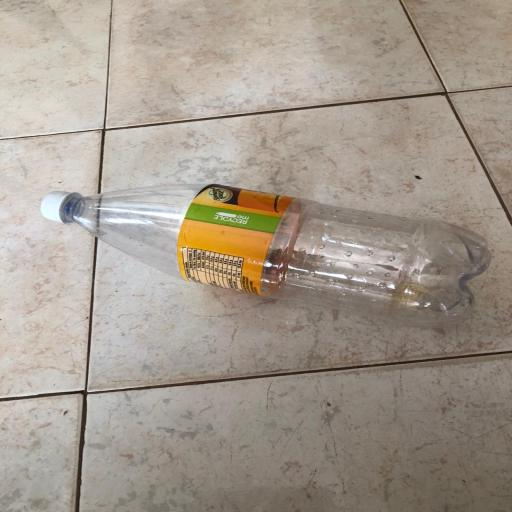waste: (29, 181, 496, 336)
